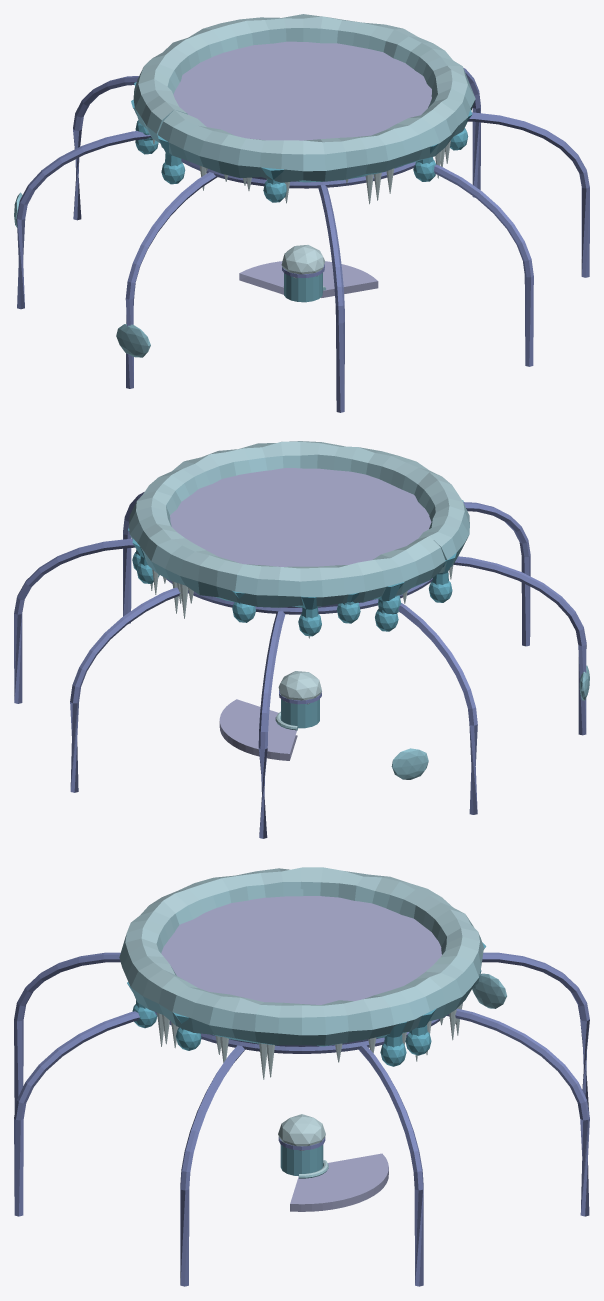
Rendered from goo_jar_trim_4_top@crystal.fbx.
3 renders of one model, top to bottom at view 1: azimuth 30°, elevation 25°; view 2: azimuth 150°, elevation 25°; view 3: azimuth 270°, elevation 25°, orthographic. The views are drawn at different scales.
Parts seen in each view (by area): view 1: goo_jar_trim_4_top; view 2: goo_jar_trim_4_top; view 3: goo_jar_trim_4_top.
Part boxes in pixels (<box>): goo_jar_trim_4_top: <box>14,14,589,412</box>; goo_jar_trim_4_top: <box>14,441,589,838</box>; goo_jar_trim_4_top: <box>14,867,589,1286</box>.
Size of the model in its own units: 41.08 by 18.79 by 40.75.
